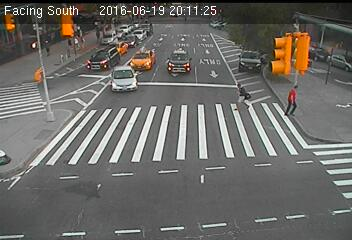neg: (30, 75, 51, 103), (325, 60, 346, 88), (307, 55, 326, 80), (14, 30, 32, 54), (224, 31, 240, 52), (6, 39, 20, 56), (51, 56, 64, 73)
pos: (282, 81, 309, 118), (228, 78, 253, 111), (38, 38, 53, 58), (90, 27, 105, 46), (62, 36, 75, 54)
